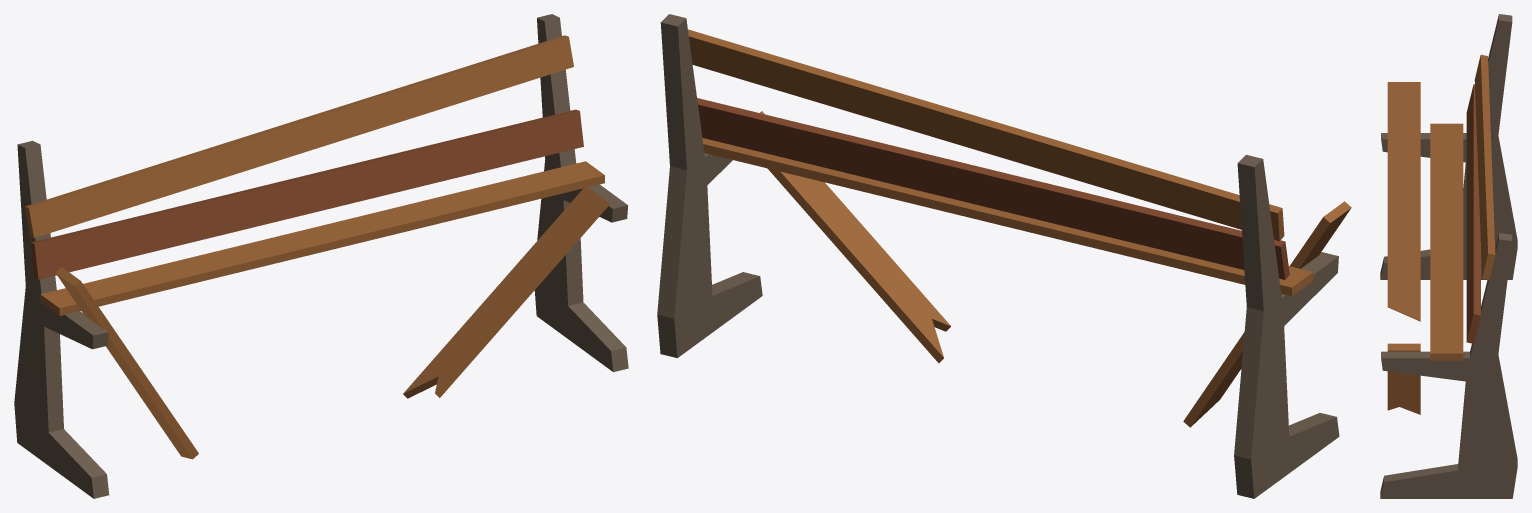
The model's file is LP_PostApoc_UrbanBenchB_Broken.fbx.
3 views of the same model, side by side, from view 1: azimuth 30°, elevation 25°; view 2: azimuth 150°, elevation 25°; view 3: azimuth 270°, elevation 25° (orthographic). The views are drawn at different scales.
Visible parts, largest first — view 1: UrbanBenchB_Broken; view 2: UrbanBenchB_Broken; view 3: UrbanBenchB_Broken.
Boxes of the visible parts, <box> form: UrbanBenchB_Broken: <box>14,14,628,498</box>; UrbanBenchB_Broken: <box>657,14,1351,498</box>; UrbanBenchB_Broken: <box>1380,14,1517,498</box>.
Bounding box in the file's own units: 226 × 117 × 56.1.
